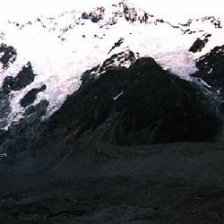neutral: (3, 4, 222, 224)
